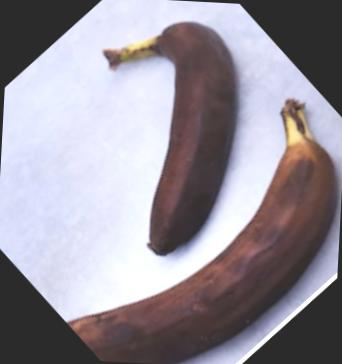Banana Overripe: (82, 23, 271, 272)
